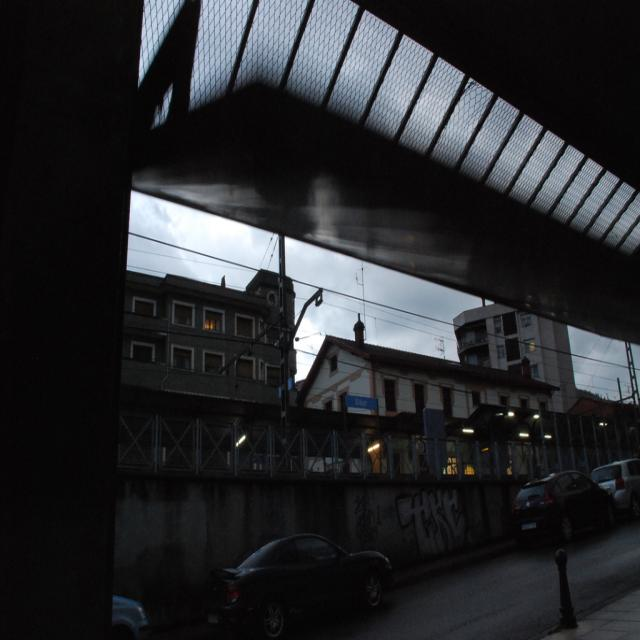car: (202, 534, 407, 616)
